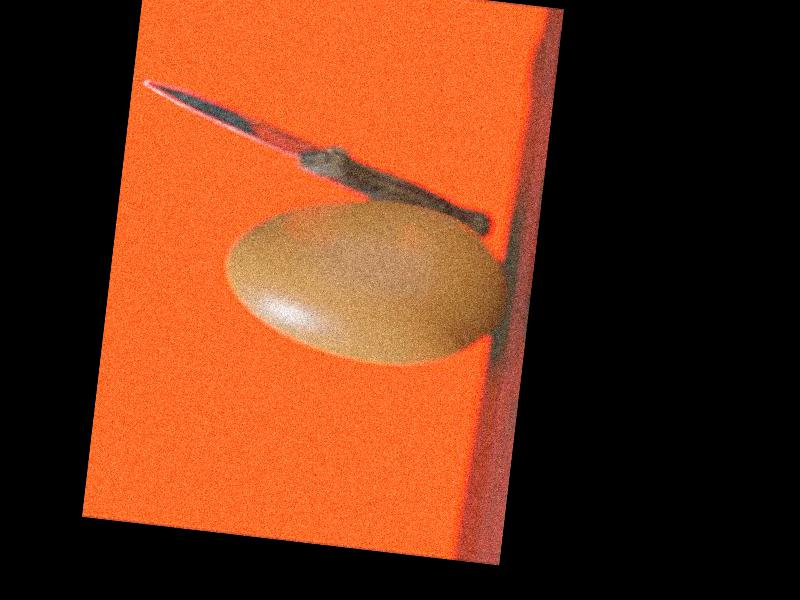Eggs: (220, 185, 509, 374)
